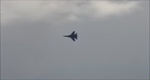maybay_muctieu: (61, 30, 79, 43)
